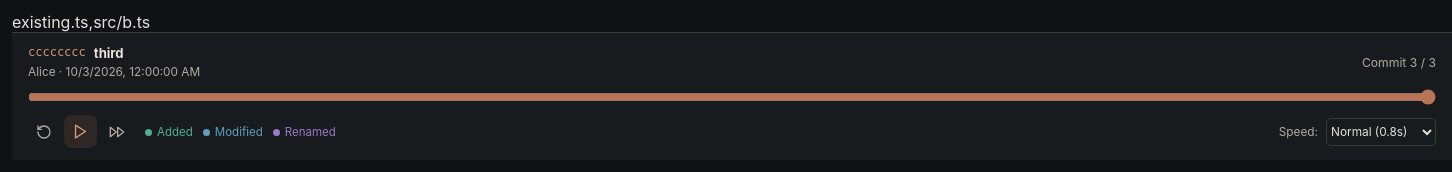
timeline playback selection › preserves the chosen commit when history advances and after reopening the report
Click the button named "First commit". click: [44, 132]
box: [28,116,60,148]
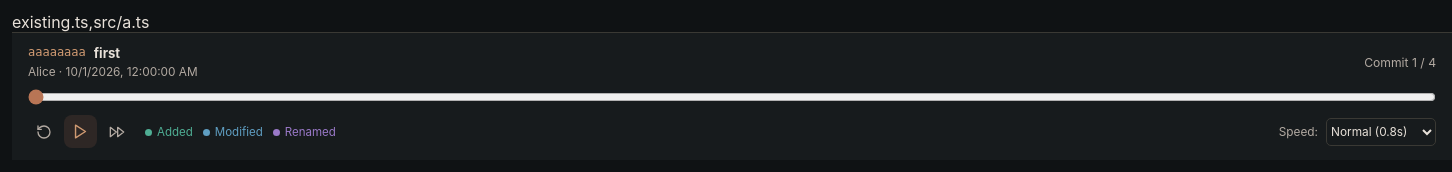
Check: the text with class "file-timeline-position" reads "Commit 1 / 4", box [1364,54,1436,70]
